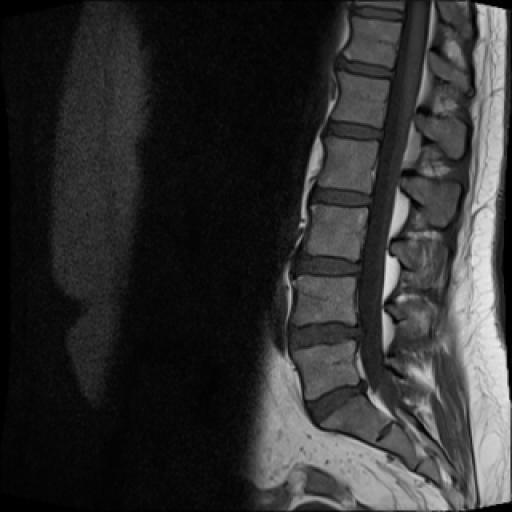L1: (331, 72, 391, 131)
L2: (317, 135, 378, 194)
L3: (306, 205, 368, 260)
L4: (289, 275, 356, 328)
L5: (293, 340, 360, 399)
S1: (320, 394, 392, 444)
